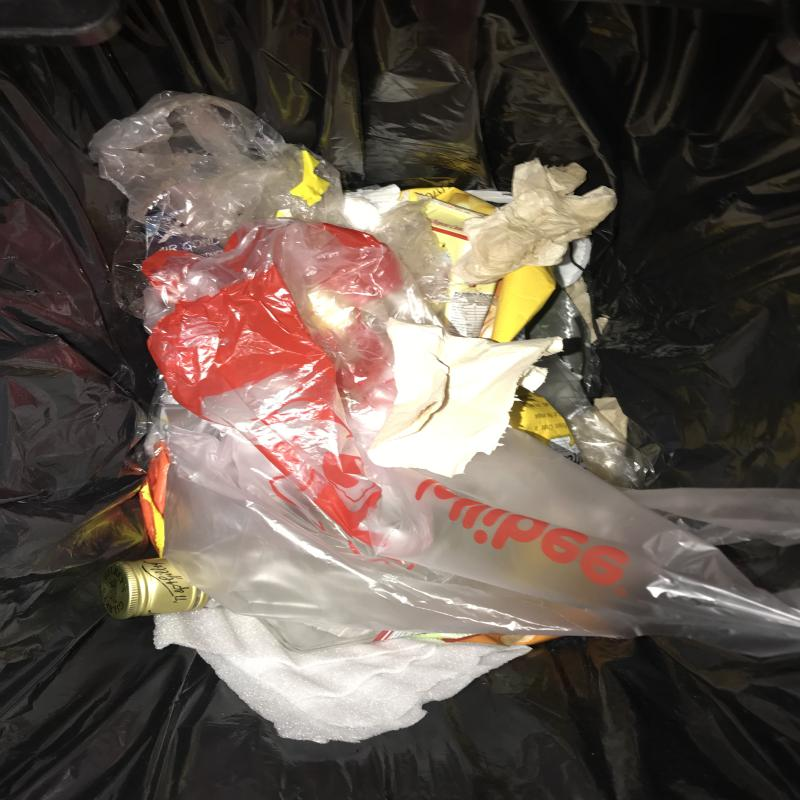food wrapper: (399, 188, 554, 343), (508, 396, 583, 465)
paper: (366, 317, 563, 479), (446, 159, 618, 289)
plastic bag: (91, 90, 800, 694), (520, 354, 663, 493)
